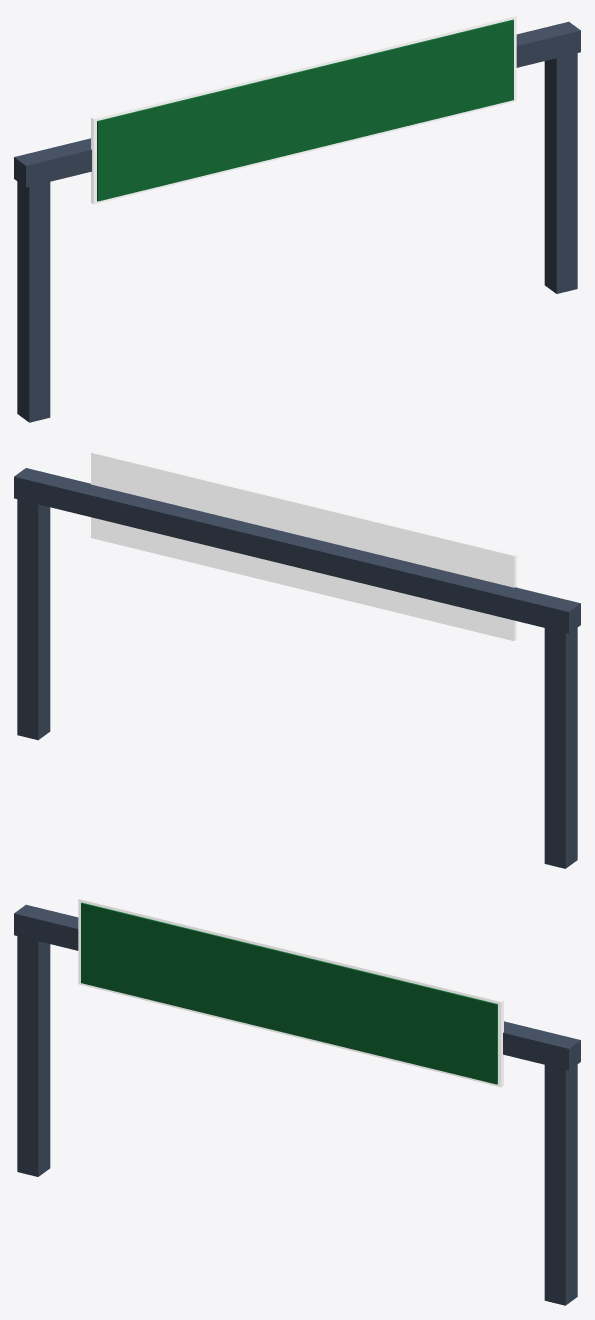
File: ring_road_sign.glb
3 renders of one model, top to bottom at view 1: azimuth 30°, elevation 25°; view 2: azimuth 150°, elevation 25°; view 3: azimuth 330°, elevation 25°, orthographic.
Visible parts, largest first — view 1: RingRoadSign; view 2: RingRoadSign; view 3: RingRoadSign.
Part boxes in pixels (box(x1,y1,x2,y2)): RingRoadSign: box(14, 14, 580, 422); RingRoadSign: box(14, 451, 580, 868); RingRoadSign: box(14, 897, 580, 1305).
Bounding box in the file's own units: 16 × 7.97 × 0.725.
